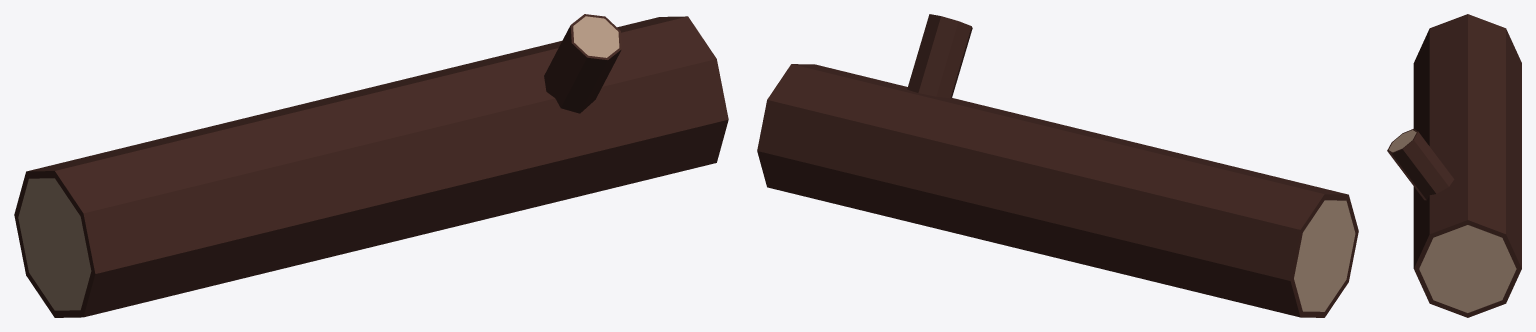
File: Log.fbx
The picture shows the model from 3 angles, left to right: view 1: azimuth 30°, elevation 25°; view 2: azimuth 150°, elevation 25°; view 3: azimuth 270°, elevation 25°; orthographic projection. The views are drawn at different scales.
Parts seen in each view (by area): view 1: Cylinder, Cylinder.001; view 2: Cylinder, Cylinder.001; view 3: Cylinder, Cylinder.001.
Boxes of the visible parts, box(x1,y1,x2,y2) form: Cylinder: box(14, 16, 728, 317); Cylinder.001: box(544, 14, 621, 113); Cylinder: box(757, 64, 1358, 317); Cylinder.001: box(907, 14, 972, 98); Cylinder: box(1413, 14, 1521, 317); Cylinder.001: box(1387, 128, 1454, 200).
Size of the model in its own units: 1000 by 318 by 277.
